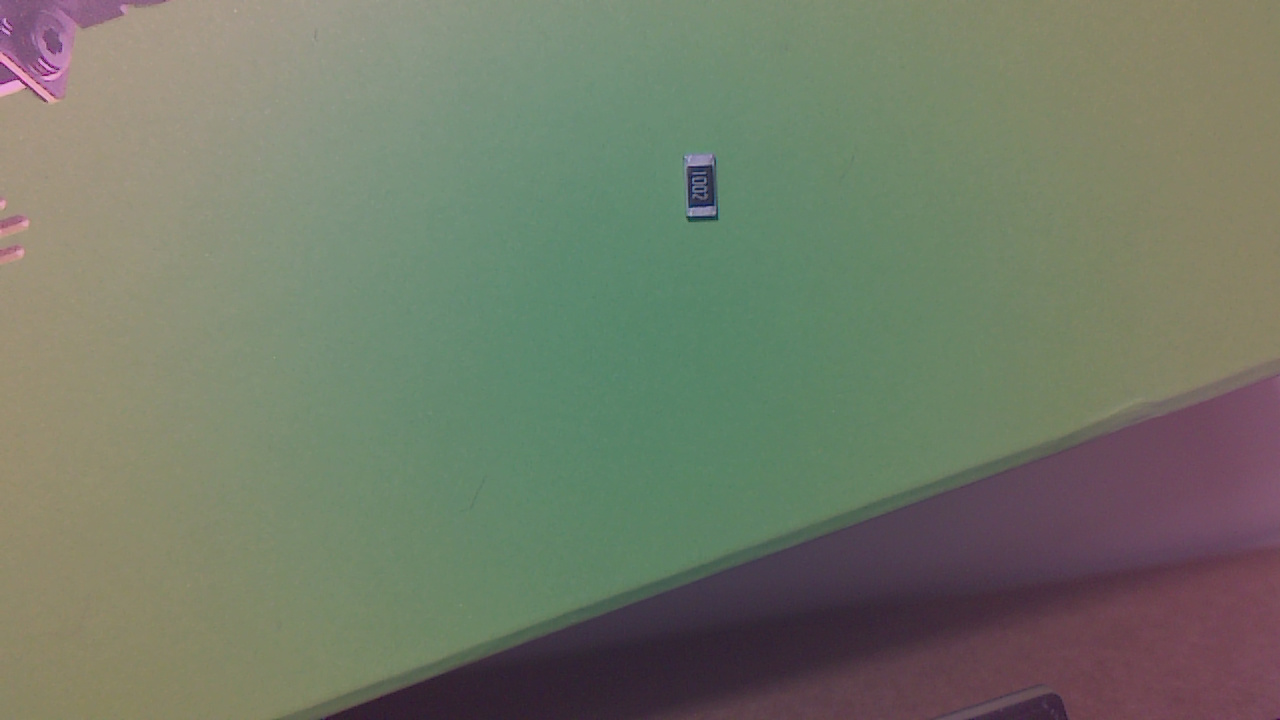Resistor: (689, 156, 724, 224)
